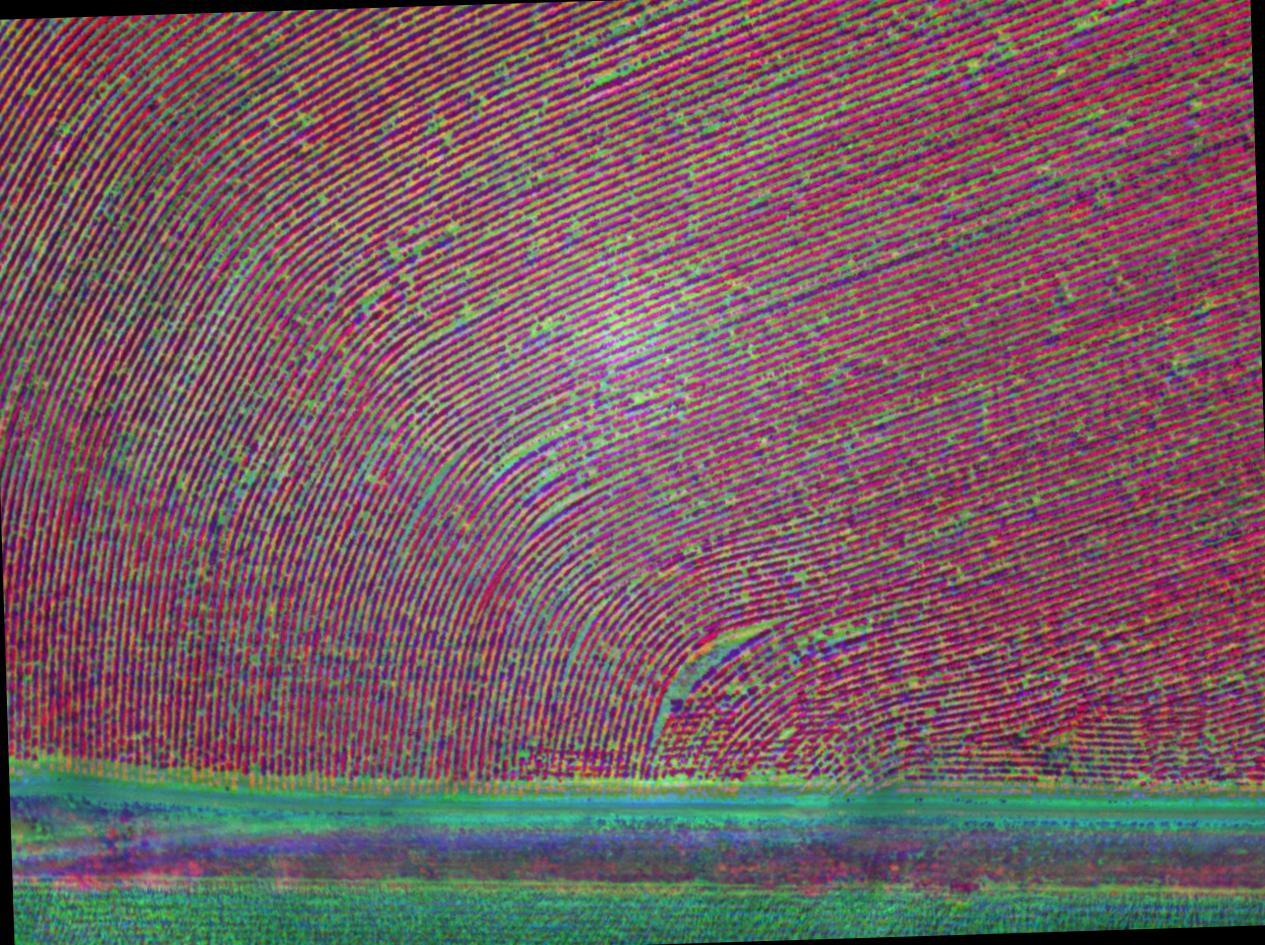dc: (473, 418, 595, 533), (636, 603, 753, 705), (123, 105, 227, 211), (86, 273, 176, 393), (551, 38, 657, 118), (198, 405, 272, 509)
